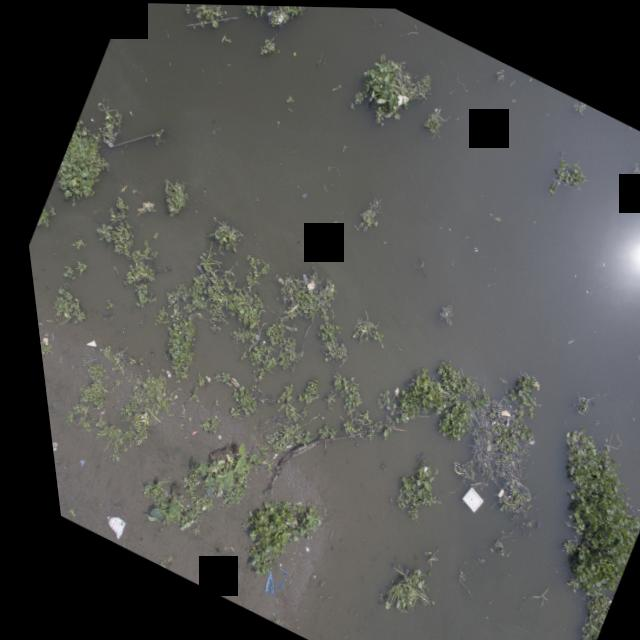plastic: (439, 472, 482, 516), (84, 504, 122, 543), (252, 557, 281, 590), (239, 568, 268, 598), (390, 87, 410, 107), (486, 402, 504, 419), (290, 268, 306, 284), (176, 423, 191, 438), (74, 335, 90, 349), (217, 373, 233, 387), (63, 453, 77, 468), (41, 435, 51, 455), (98, 135, 112, 149), (274, 8, 287, 23), (491, 413, 505, 426), (312, 281, 324, 294), (471, 436, 483, 449), (519, 486, 531, 499), (482, 484, 494, 497), (632, 411, 640, 429), (515, 433, 526, 445), (520, 518, 530, 529), (283, 322, 293, 332), (138, 347, 148, 357), (273, 440, 283, 449), (635, 154, 640, 171), (289, 542, 298, 551), (469, 596, 478, 605), (259, 449, 267, 459), (171, 499, 179, 508)
